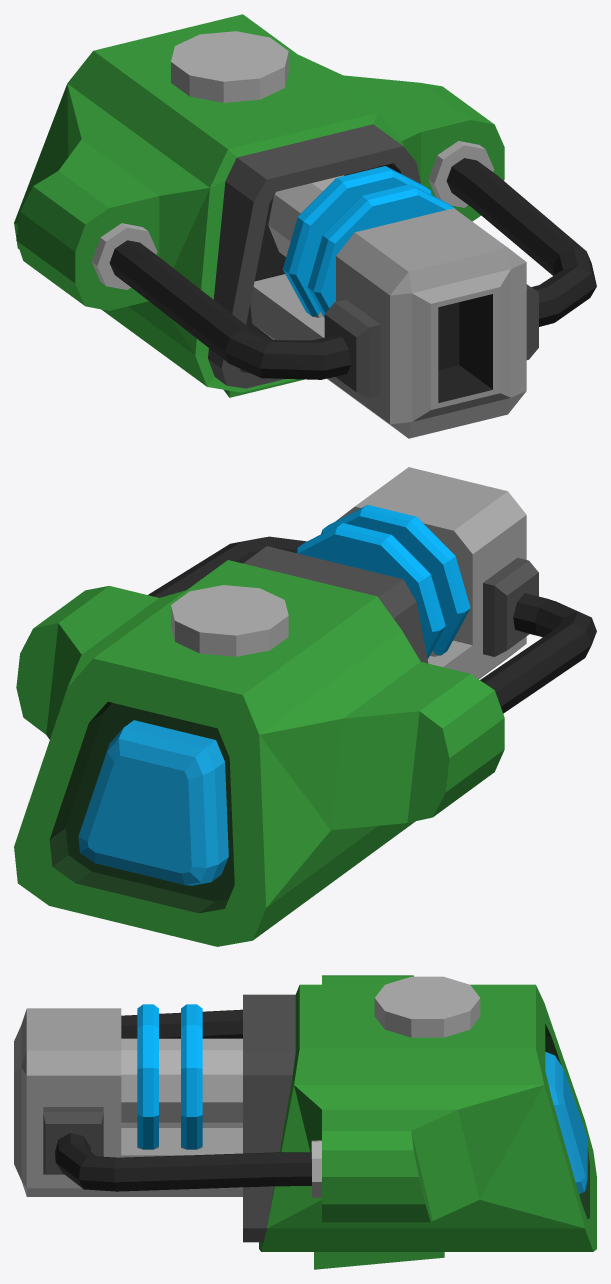
File: plasma_cannon.fbx
The picture shows the model from 3 angles, top to bottom: view 1: azimuth 30°, elevation 25°; view 2: azimuth 150°, elevation 25°; view 3: azimuth 270°, elevation 25°; orthographic projection. The views are drawn at different scales.
Visible parts, largest first — view 1: Cube.072, Cube.018, BezierCurve.003, Cylinder.045, Cylinder.046; view 2: Cube.072, Cube.018, Cylinder.045, BezierCurve.003, Cylinder.046; view 3: Cube.072, Cube.018, Cylinder.045, BezierCurve.003, Cylinder.046.
Boxes of the visible parts, <box> form: Cube.072: <box>14,14,504,397</box>; Cube.018: <box>250,208,538,438</box>; BezierCurve.003: <box>91,141,596,379</box>; Cylinder.045: <box>268,166,455,318</box>; Cylinder.046: <box>171,31,288,102</box>; Cube.072: <box>14,546,504,946</box>; Cube.018: <box>336,467,538,679</box>; Cylinder.045: <box>296,505,470,658</box>; BezierCurve.003: <box>148,536,596,713</box>; Cylinder.046: <box>171,585,288,656</box>; Cube.072: <box>243,975,596,1269</box>; Cube.018: <box>14,1008,242,1196</box>; Cylinder.045: <box>121,1004,242,1149</box>; BezierCurve.003: <box>55,1009,321,1197</box>; Cylinder.046: <box>374,976,480,1037</box>.
Bounding box in the file's own units: 118 × 72.99 × 158.
